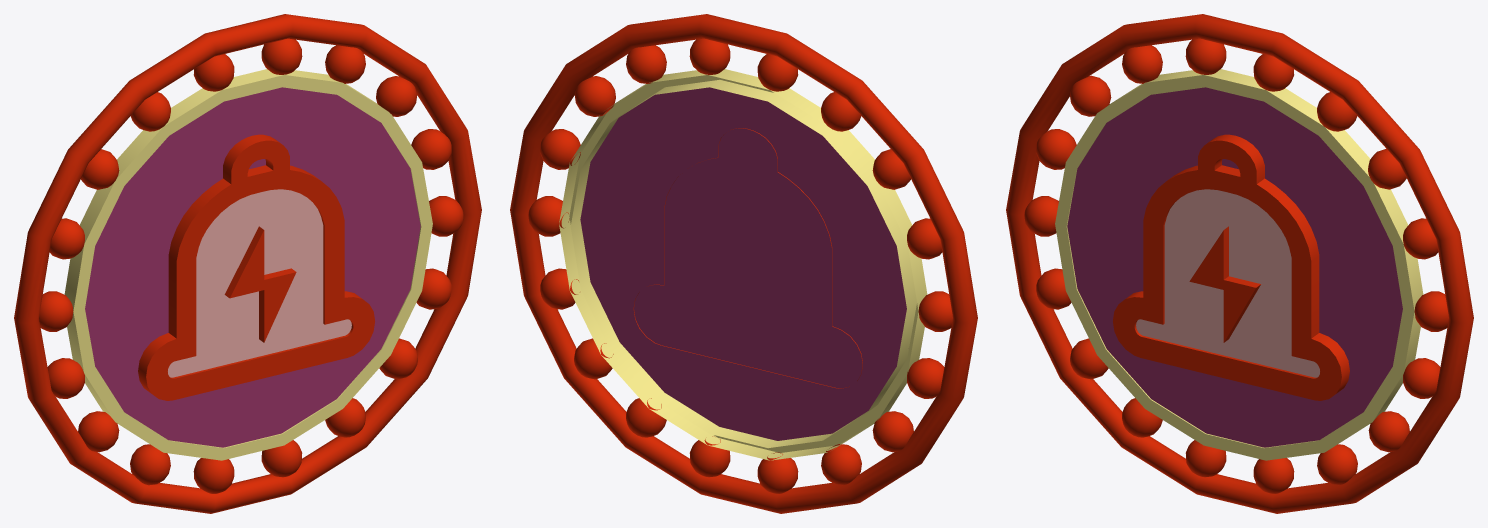
3 renders of one model, left to right at view 1: azimuth 30°, elevation 25°; view 2: azimuth 150°, elevation 25°; view 3: azimuth 330°, elevation 25°, orthographic.
Parts seen in each view (by area): view 1: 预警图标01; view 2: 预警图标01; view 3: 预警图标01.
Boxes of the visible parts, <box> form: 预警图标01: <box>14,14,481,513</box>; 预警图标01: <box>510,14,977,513</box>; 预警图标01: <box>1006,14,1473,513</box>.
Size of the model in its own units: 0.1559 by 0.1536 by 0.0155.
